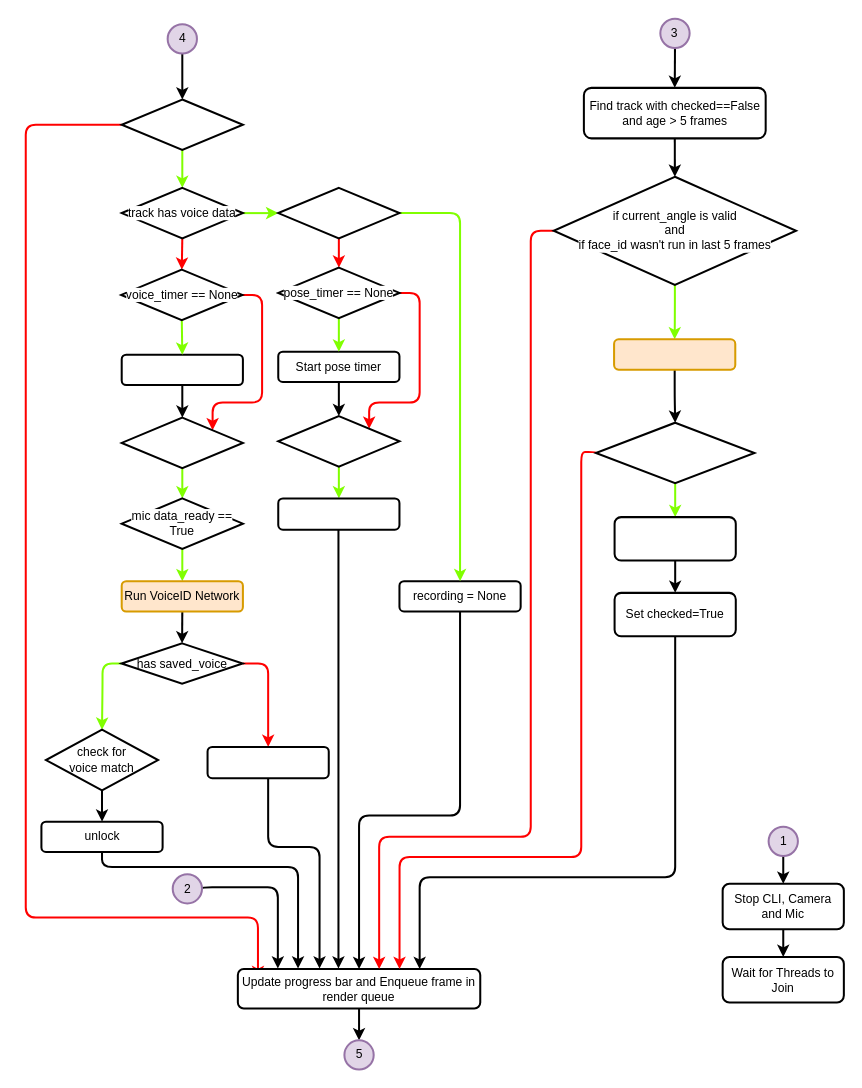
Some shapes in this 862 by 1088 pixel diagram are drawn without their labels. The box of each missing label's shape, as (x1, y1, x2, y2) in pixels:
Found in DB: (594, 421, 755, 484)
pose_timer > 5 sec: (277, 415, 400, 467)
Run Face ID Network: (613, 338, 736, 370)
Save pose to DB: (277, 497, 400, 530)
Save voice to DB: (206, 745, 329, 779)
Start voice timer: (120, 353, 243, 386)
track has all face feats: (120, 98, 243, 150)
track has pose data: (277, 186, 400, 239)
Update Track Info from DB: (613, 516, 736, 561)
voice_timer > 10 sec: (120, 416, 243, 469)
